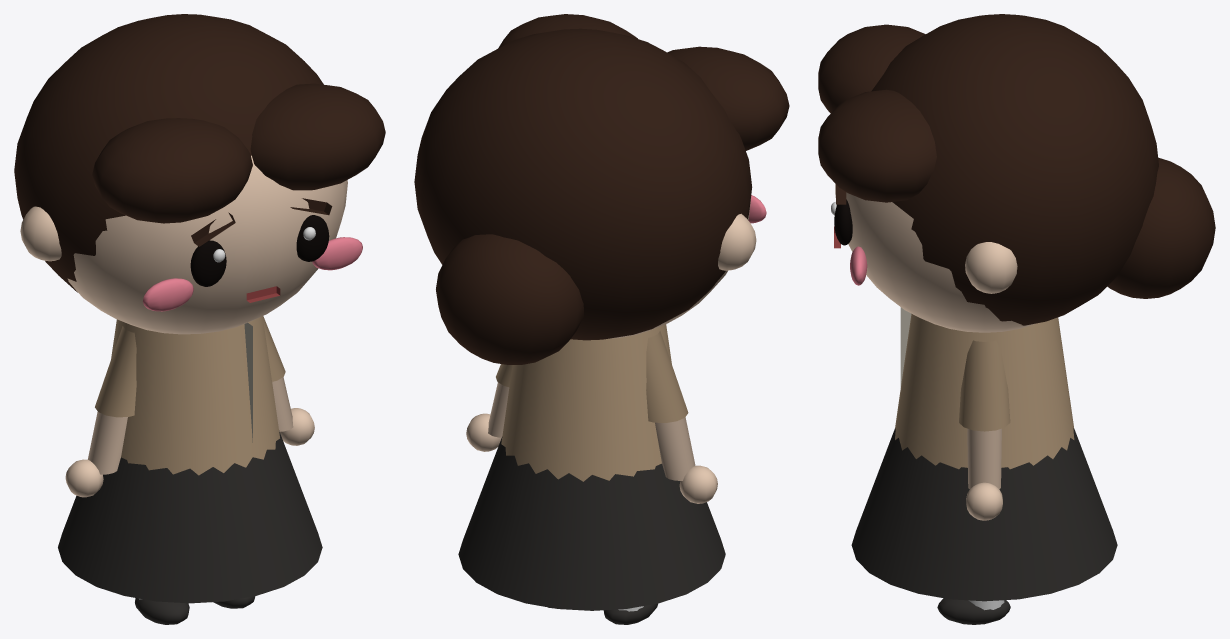
The model's file is mom.glb.
3 renders of one model, left to right at view 1: azimuth 30°, elevation 25°; view 2: azimuth 150°, elevation 25°; view 3: azimuth 270°, elevation 25°, orthographic.
Parts seen in each view (by area): view 1: ClayAsset; view 2: ClayAsset; view 3: ClayAsset.
Boxes of the visible parts, box(x1,y1,x2,y2) form: ClayAsset: box(14, 14, 385, 624); ClayAsset: box(414, 14, 789, 624); ClayAsset: box(818, 14, 1215, 624).
Bounding box in the file's own units: 1.08 × 1.81 × 1.13.
